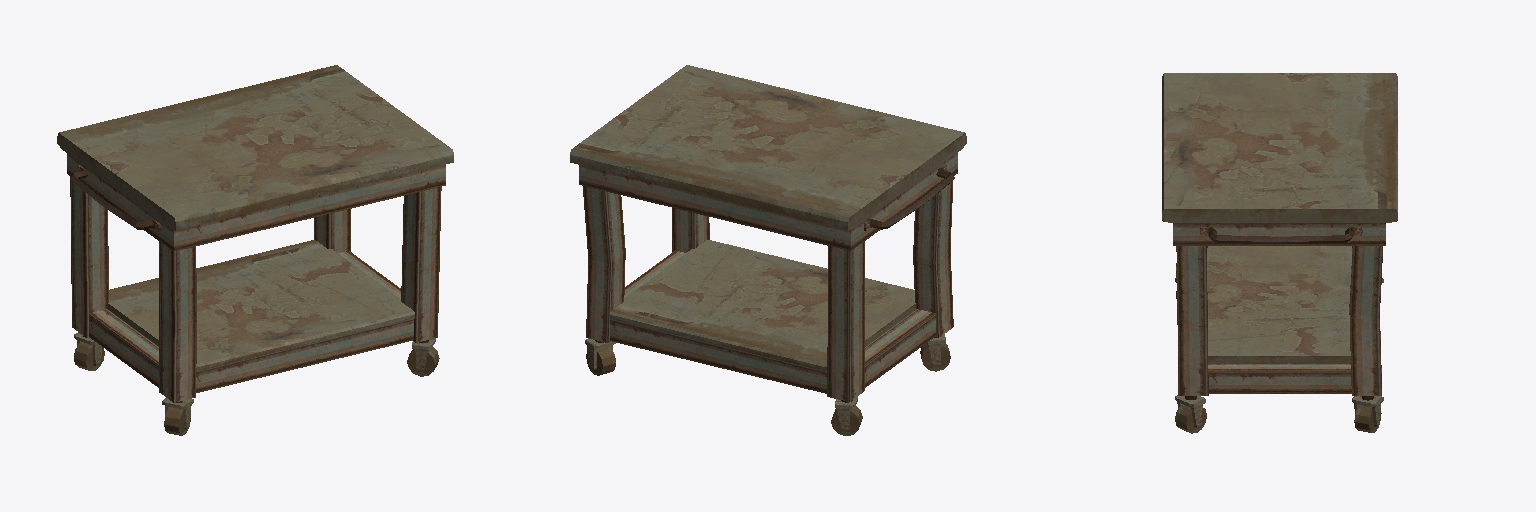
3 renders of one model, left to right at view 1: azimuth 30°, elevation 25°; view 2: azimuth 150°, elevation 25°; view 3: azimuth 270°, elevation 25°, orthographic.
Parts seen in each view (by area): view 1: CartGarage01_12; view 2: CartGarage01_12; view 3: CartGarage01_12.
Boxes of the visible parts, x1,y1,x2,y2 form: CartGarage01_12: [57, 65, 453, 435]; CartGarage01_12: [570, 65, 966, 435]; CartGarage01_12: [1162, 73, 1397, 433].
Bounding box in the file's own units: 90.97 × 64.19 × 59.81.
Materials: 1 (1 with a texture image).